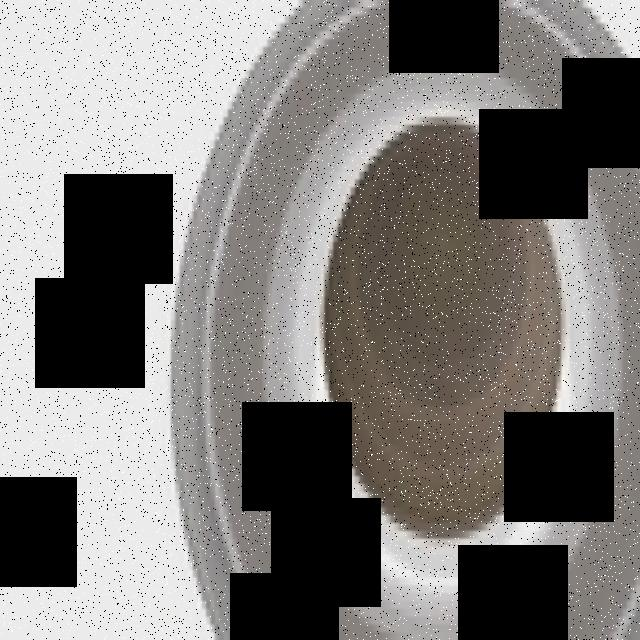Saturn: (171, 0, 640, 640)
